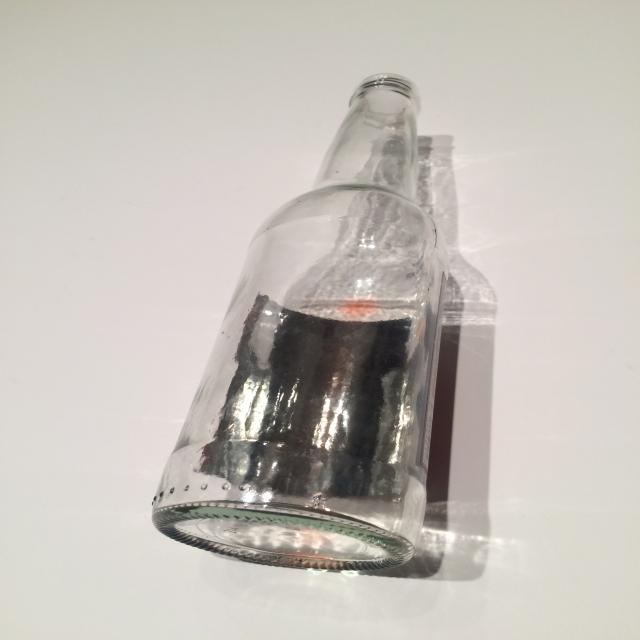glass: (150, 72, 450, 573)
